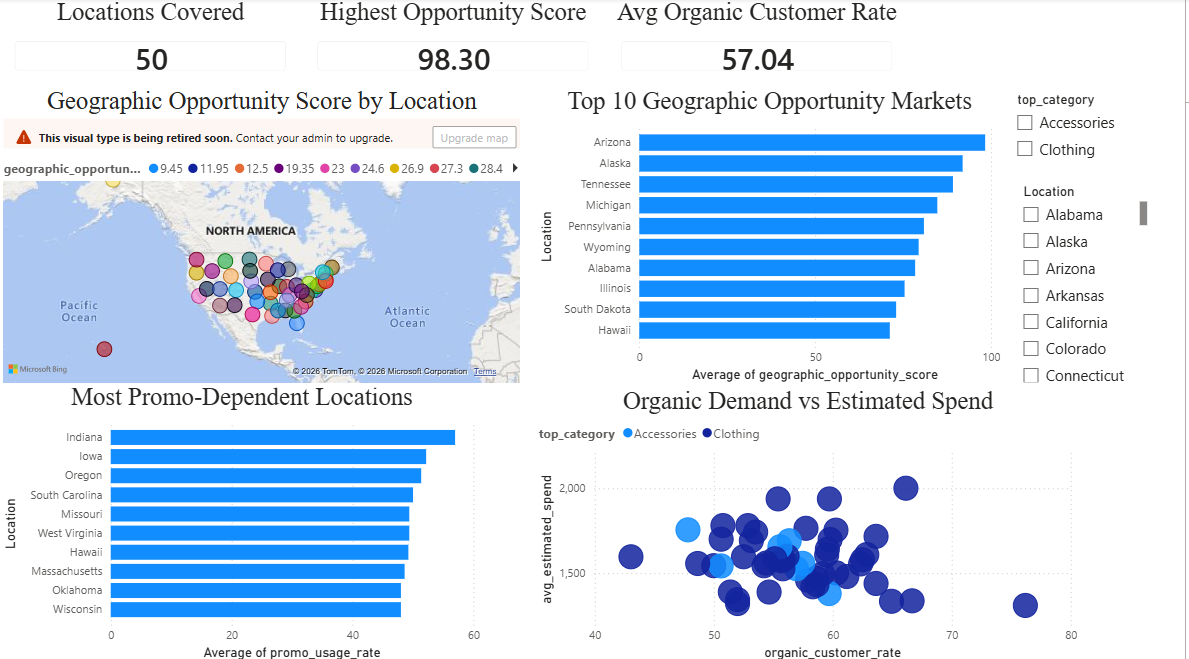

What the dashboard file says about the page in this screenshot:
{"tool":"powerbi","page":{"name":"Geographic Opportunity Map","canvas":[1280,720],"ordinal":3},"visuals":[{"type":"clusteredBarChart","title":"Most Promo-Dependent Locations","fields":{"Category":["geographic_opportunity_map.Location"],"Y":["Avg(geographic_opportunity_map.promo_usage_rate)"]},"box":[0,415.7,524.3,304.3],"z":0},{"type":"map","title":"Geographic Opportunity Score by Location","fields":{"Category":["geographic_opportunity_map.Location"],"Size":["CountNonNull(geographic_opportunity_map.customers)"],"Series":["geographic_opportunity_map.geographic_opportunity_score"]},"box":[0,95.7,567.1,324.3],"z":1000},{"type":"clusteredBarChart","title":"Top 10 Geographic Opportunity Markets","fields":{"Category":["geographic_opportunity_map.Location"],"Y":["Avg(geographic_opportunity_map.geographic_opportunity_score)"]},"box":[577.1,95.7,508.6,324.3],"z":2000},{"type":"scatterChart","title":"Organic Demand vs Estimated Spend","fields":{"X":["geographic_opportunity_map.organic_customer_rate"],"Y":["geographic_opportunity_map.avg_estimated_spend"],"Series":["geographic_opportunity_map.top_category"],"Size":["CountNonNull(geographic_opportunity_map.customers)"]},"box":[577.1,420,591.4,300],"z":3000},{"type":"cardVisual","title":"Locations Covered","fields":{"Data":["CountNonNull(geographic_opportunity_map.Location)"]},"box":[0,0,327.1,95.7],"z":3001},{"type":"cardVisual","title":"Highest Opportunity Score","fields":{"Data":["Max(geographic_opportunity_map.geographic_opportunity_score)"]},"box":[327.1,0,327.1,95.7],"z":3002},{"type":"cardVisual","title":"Avg Organic Customer Rate","fields":{"Data":["Avg(geographic_opportunity_map.organic_customer_rate)"]},"box":[654.3,0,327.1,95.7],"z":3003},{"type":"slicer","fields":{"Values":["geographic_opportunity_map.top_category"]},"box":[1085.7,95.7,151.4,98.6],"z":3004},{"type":"slicer","fields":{"Values":["geographic_opportunity_map.Location"]},"box":[1092.9,195.7,151.4,224.3],"z":3005}]}

Visuals, with their boxes in screenshot pixels (x1, y1, x2, y2), scaled from the page's 1280x720 canvas onto the 1189x659 screenshot:
"Most Promo-Dependent Locations" clusteredBarChart: pyautogui.locateOnScreen(0, 380, 487, 658)
"Geographic Opportunity Score by Location" map: pyautogui.locateOnScreen(0, 88, 527, 384)
"Top 10 Geographic Opportunity Markets" clusteredBarChart: pyautogui.locateOnScreen(536, 88, 1009, 384)
"Organic Demand vs Estimated Spend" scatterChart: pyautogui.locateOnScreen(536, 384, 1085, 658)
"Locations Covered" cardVisual: pyautogui.locateOnScreen(0, 0, 304, 88)
"Highest Opportunity Score" cardVisual: pyautogui.locateOnScreen(304, 0, 608, 88)
"Avg Organic Customer Rate" cardVisual: pyautogui.locateOnScreen(608, 0, 912, 88)
slicer - geographic_opportunity_map.top_category: pyautogui.locateOnScreen(1009, 88, 1149, 178)
slicer - geographic_opportunity_map.Location: pyautogui.locateOnScreen(1015, 179, 1156, 384)
